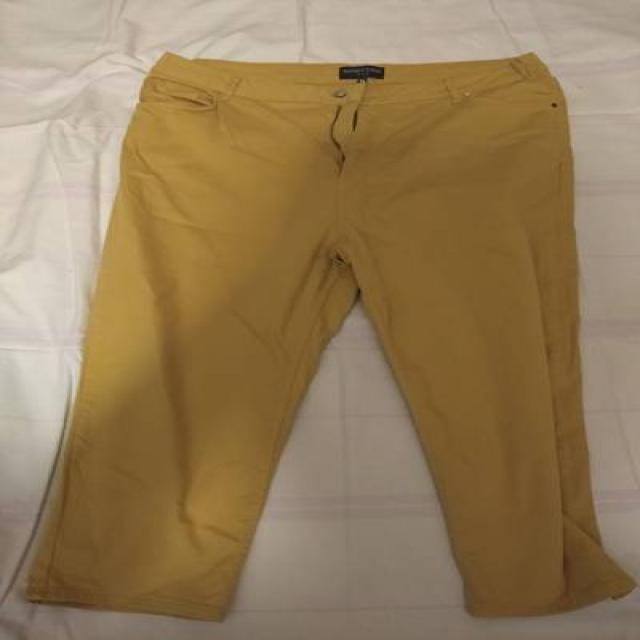non-organik: (16, 37, 637, 622)
